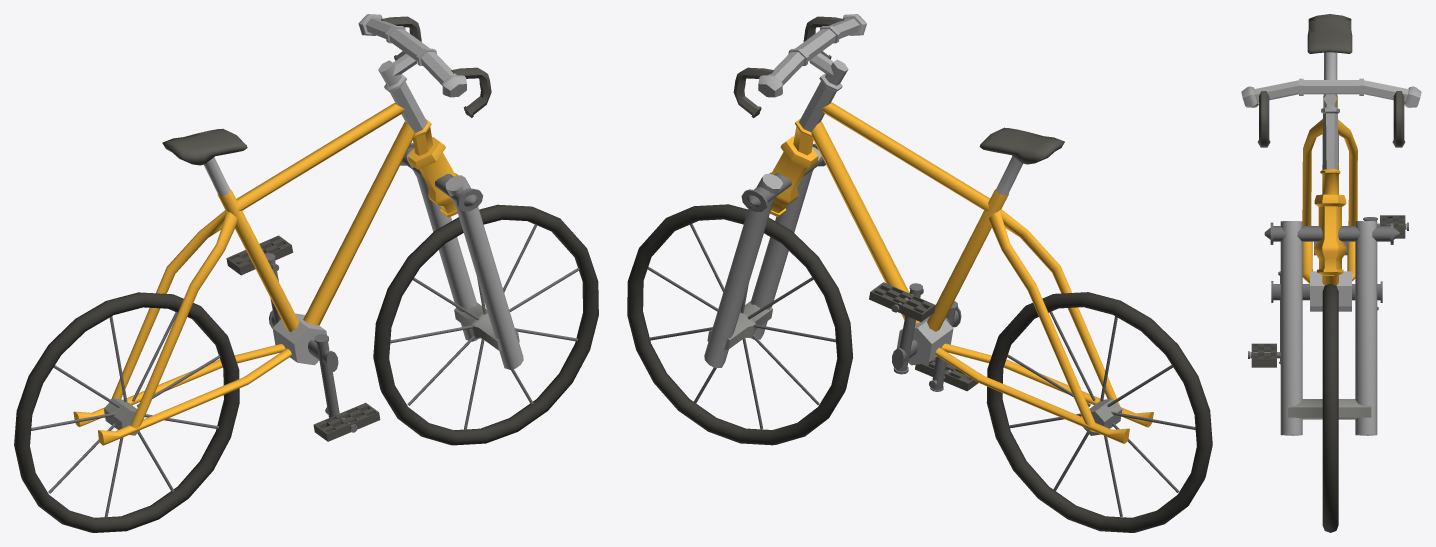
The model's file is Bike.fbx.
3 views of the same model, side by side, from view 1: azimuth 30°, elevation 25°; view 2: azimuth 150°, elevation 25°; view 3: azimuth 270°, elevation 25° (orthographic). The views are drawn at different scales.
Visible parts, largest first — view 1: Bike; view 2: Bike; view 3: Bike.
Part boxes in pixels (x1,y1,x2,y2): Bike: [14, 14, 598, 532]; Bike: [627, 14, 1212, 532]; Bike: [1241, 14, 1421, 532].
Bounding box in the file's own units: 292 × 202 × 81.
